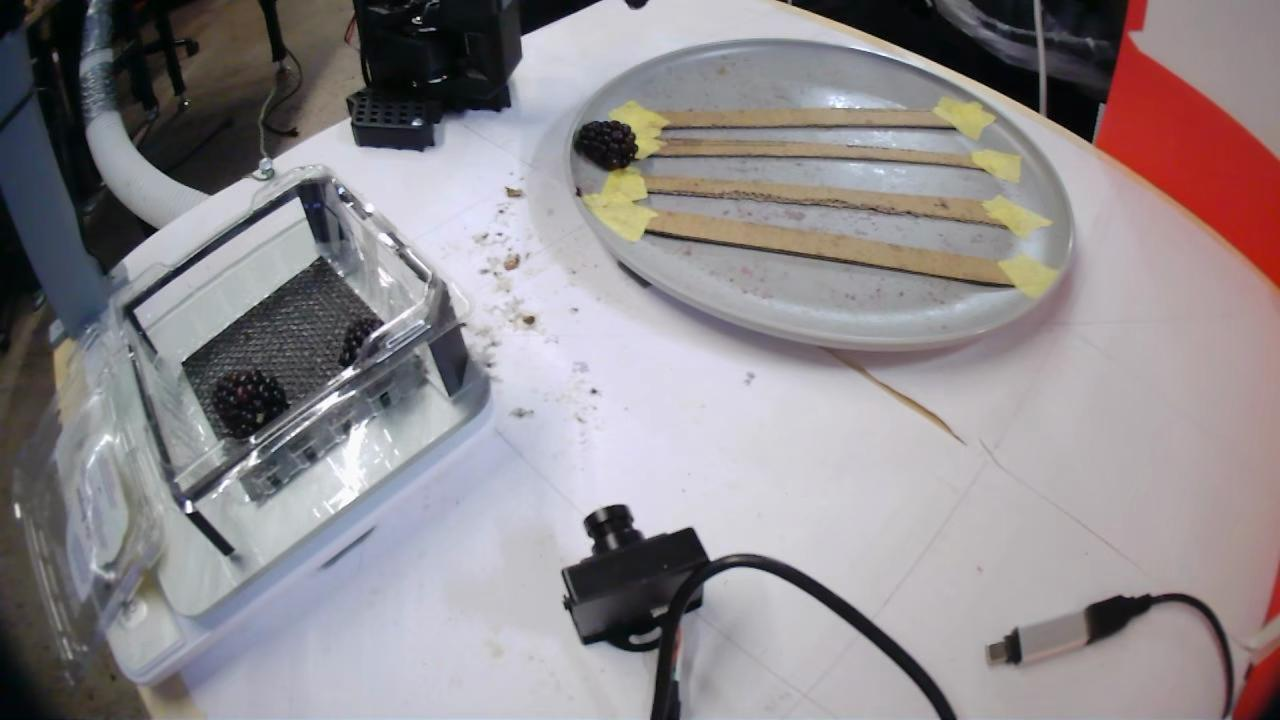berry: (212, 369, 288, 438), (574, 120, 635, 168), (339, 317, 381, 367)
